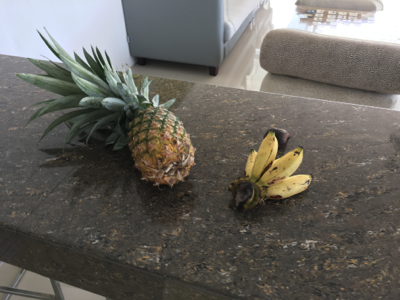banana: (228, 132, 313, 211)
pineapple: (16, 25, 195, 187)
